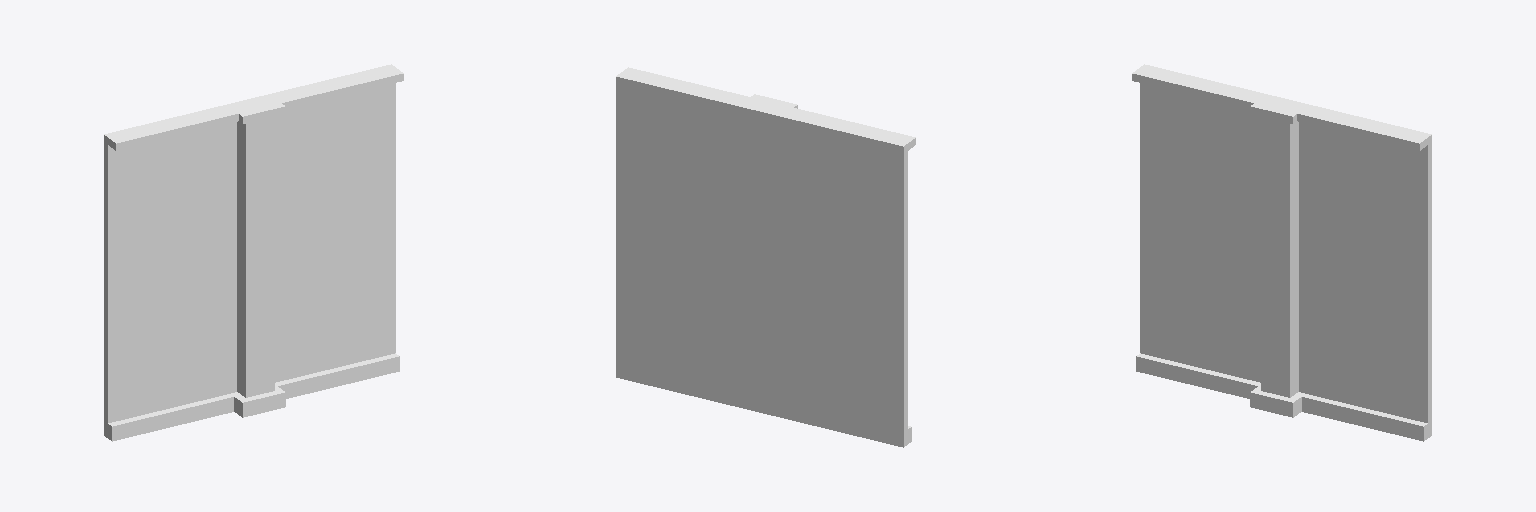
The model's file is glue_wall_a.obj.
3 renders of one model, left to right at view 1: azimuth 30°, elevation 25°; view 2: azimuth 150°, elevation 25°; view 3: azimuth 330°, elevation 25°, orthographic.
Visible parts, largest first — view 1: object 1; view 2: object 1; view 3: object 1.
Part boxes in pixels (x1,y1,x2,y2): object 1: (104, 64, 403, 441); object 1: (616, 67, 915, 447); object 1: (1132, 64, 1431, 441).
Bounding box in the file's own units: 4 × 4 × 0.4.